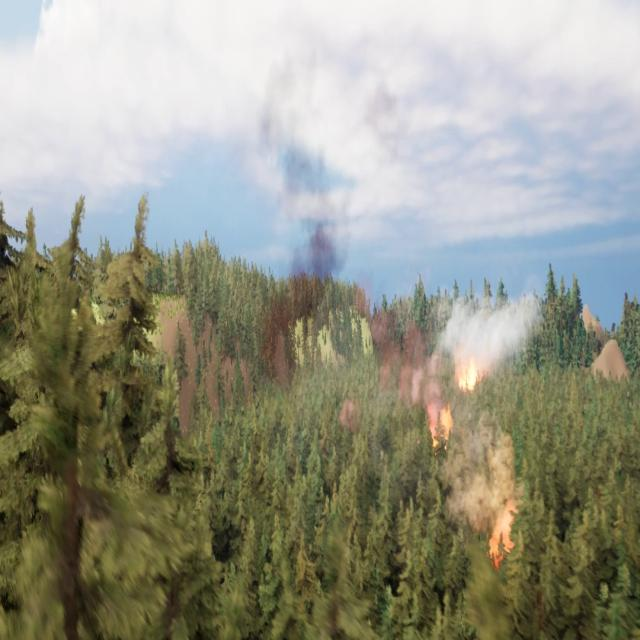fire: (487, 505, 519, 567), (452, 356, 482, 399)
smoke: (258, 30, 404, 387), (350, 265, 456, 447), (438, 296, 544, 384)
